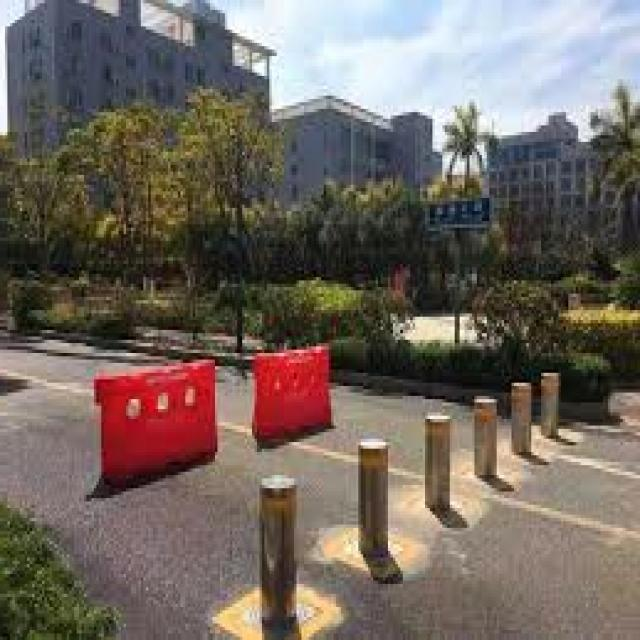bollard: (250, 469, 304, 630), (350, 433, 392, 568), (417, 406, 455, 519), (470, 391, 498, 481), (507, 378, 536, 461), (538, 364, 564, 444)
